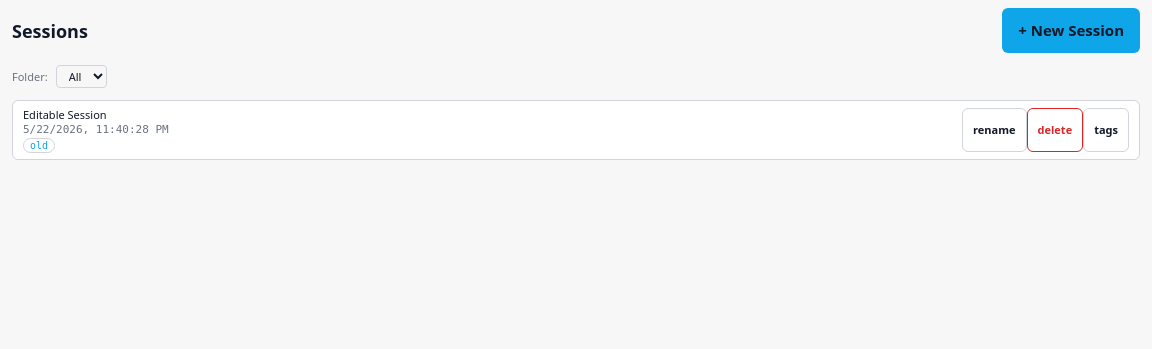
Scenario: Session tags › shows tag editor when tags button clicked
Check: the text "Editable Session" is shown, box [23,107,107,122]
# Click tags button
Click the button with test id "edit-tags-ses_1": (1106, 130) [1083,108,1129,152]
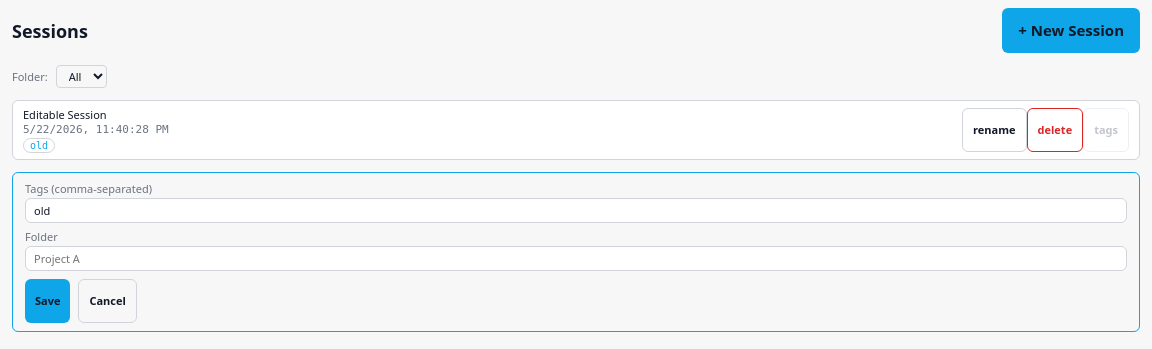
Check: the field with test id "tag-input-ses_1" is shown, box [25,198,1127,223]
Check: the field with test id "folder-input-ses_1" is shown, box [25,246,1127,271]
